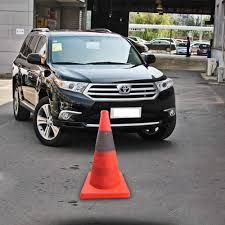car: (13, 32, 177, 146)
cone: (79, 108, 131, 201)
